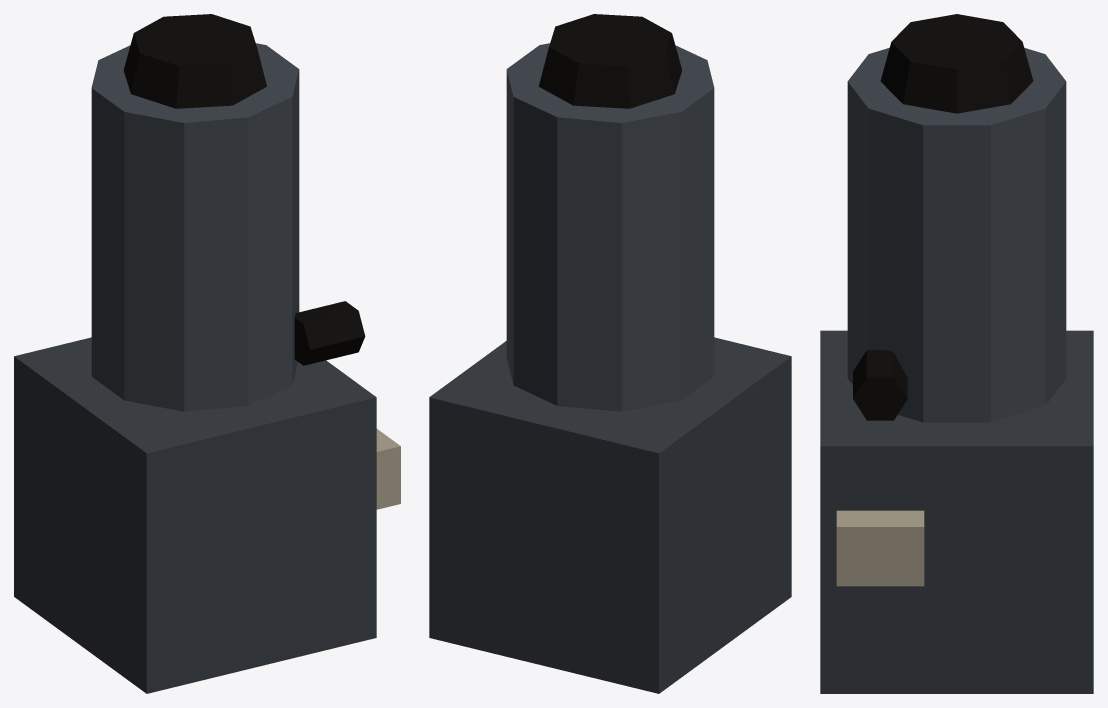
Rendered from purifier.obj.
3 renders of one model, left to right at view 1: azimuth 30°, elevation 25°; view 2: azimuth 150°, elevation 25°; view 3: azimuth 270°, elevation 25°, orthographic. The views are drawn at different scales.
Size of the model in its own units: 0.57 by 1.2 by 0.5.
